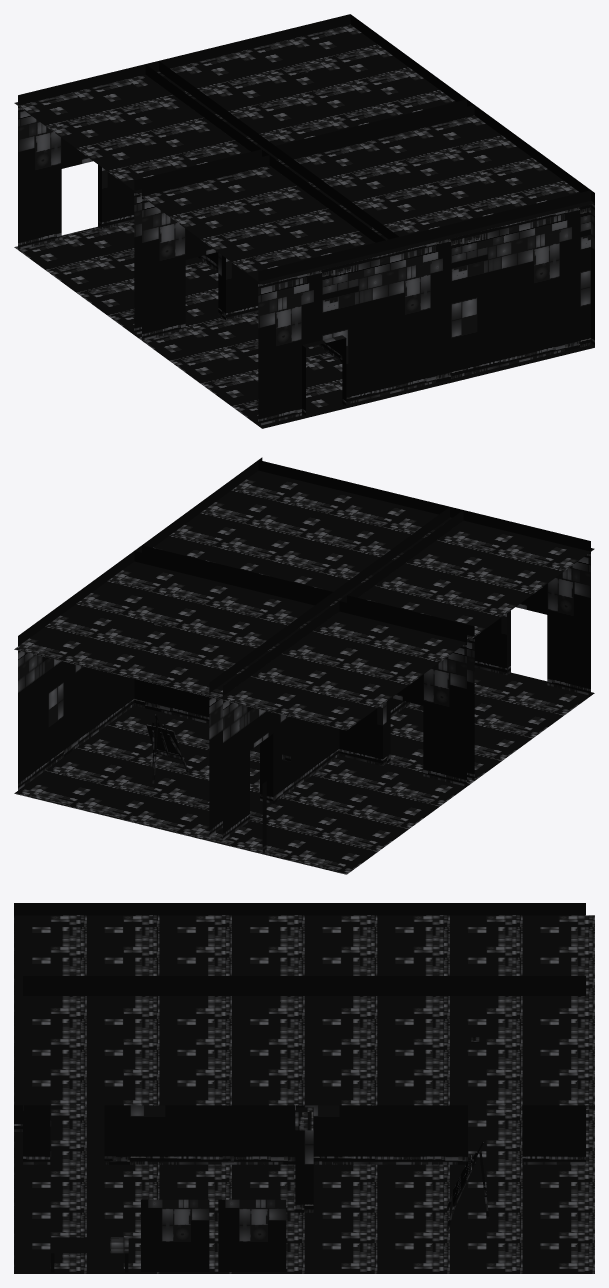
Rendered from room2test1074.obj.
3 views of the same model, one above another, from view 1: azimuth 30°, elevation 25°; view 2: azimuth 150°, elevation 25°; view 3: azimuth 270°, elevation 25° (orthographic). The views are drawn at different scales.
Bounding box in the file's own units: 1584 × 736 × 2048.
